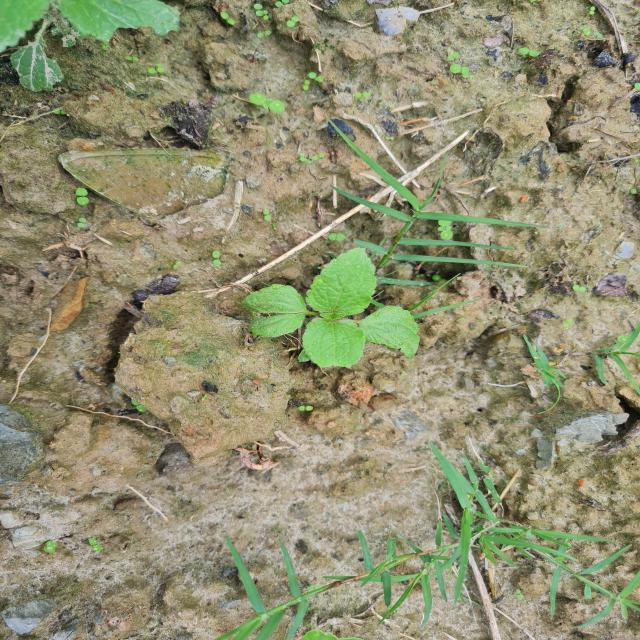weed: (231, 422, 597, 640), (205, 213, 482, 384), (0, 0, 218, 111), (510, 314, 640, 403)
